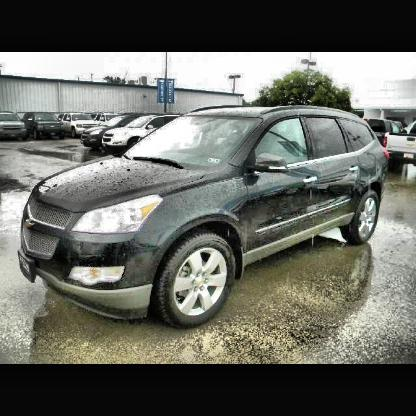Chevrolet Traverse SUV 2012: (10, 106, 388, 327)
